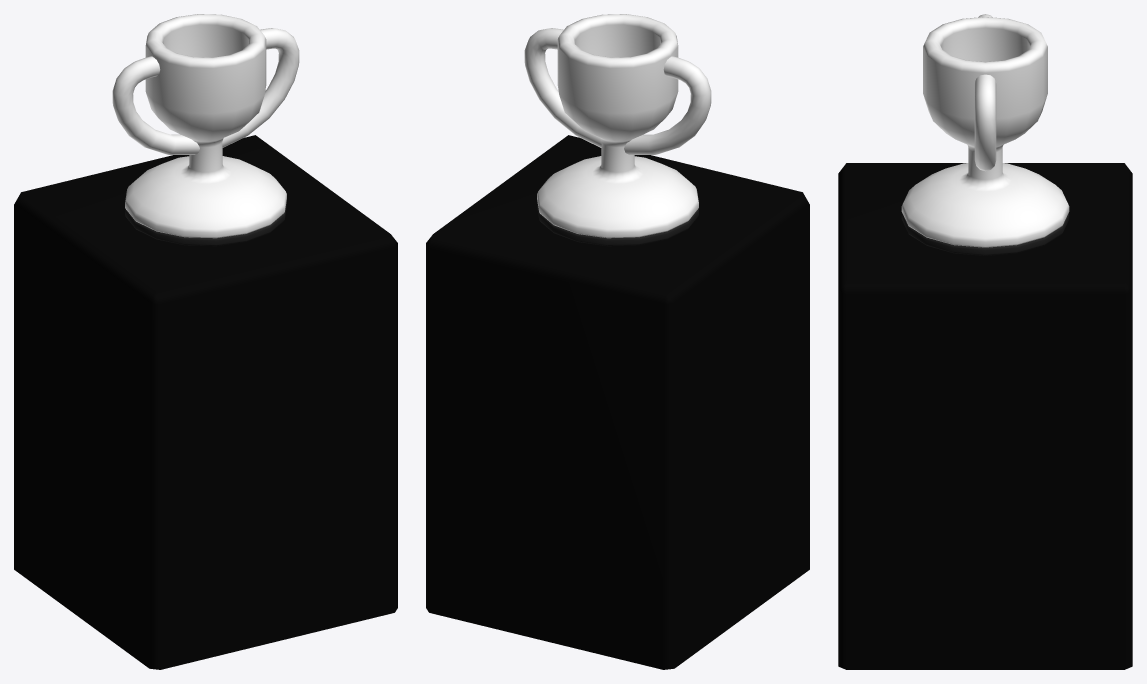
File: Trophy.fbx
3 views of the same model, side by side, from view 1: azimuth 30°, elevation 25°; view 2: azimuth 150°, elevation 25°; view 3: azimuth 270°, elevation 25° (orthographic). The views are drawn at different scales.
Visible parts, largest first — view 1: Trophy; view 2: Trophy; view 3: Trophy.
Part boxes in pixels (x1=…): Trophy: x1=14, y1=14, x2=397, y2=669; Trophy: x1=426, y1=14, x2=809, y2=669; Trophy: x1=838, y1=14, x2=1132, y2=669.
Bounding box in the file's own units: 55.23 × 117 × 55.23.
